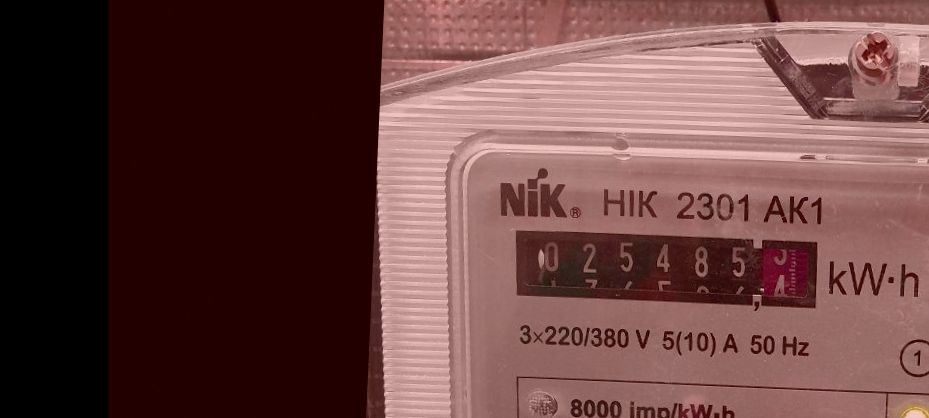0: (541, 238, 563, 274)
2: (580, 239, 601, 275)
4: (653, 240, 675, 274), (771, 271, 791, 300)
5: (727, 243, 750, 281), (616, 238, 637, 274)
8: (691, 241, 713, 280)
screen: (504, 220, 829, 320)
